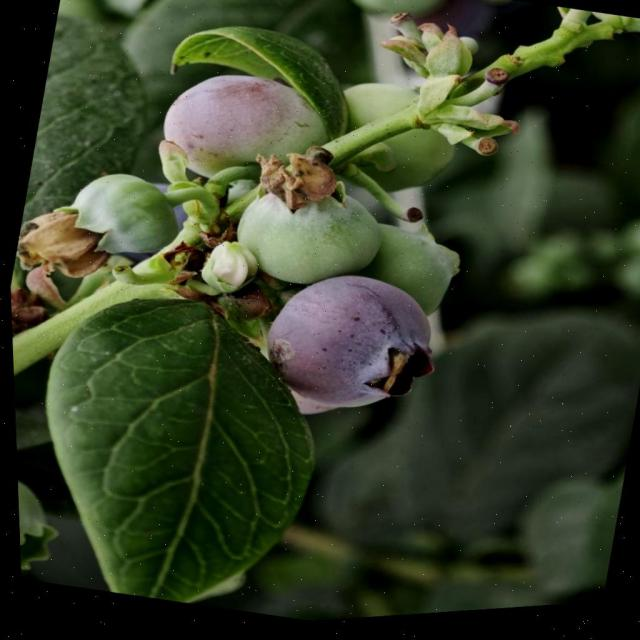Semi-RipeBlueBerry: (247, 258, 446, 434), (151, 56, 337, 206)
UnripeBlueBerry: (220, 160, 392, 308), (57, 162, 185, 280)
